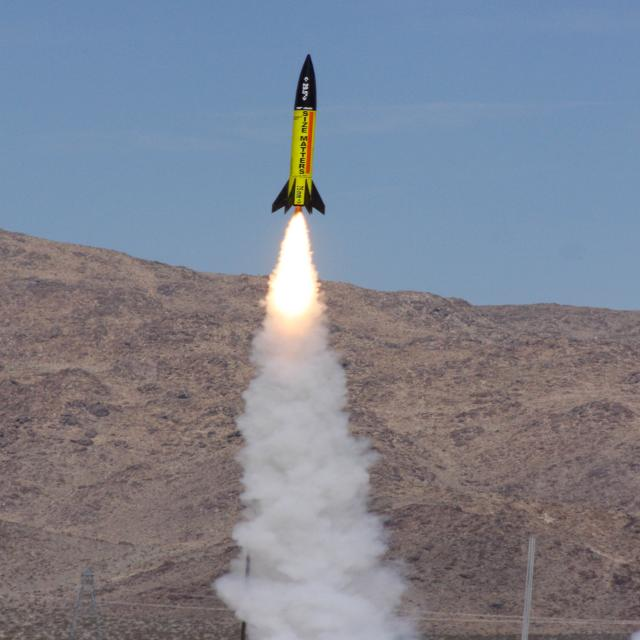Rocket: (271, 53, 326, 217)
